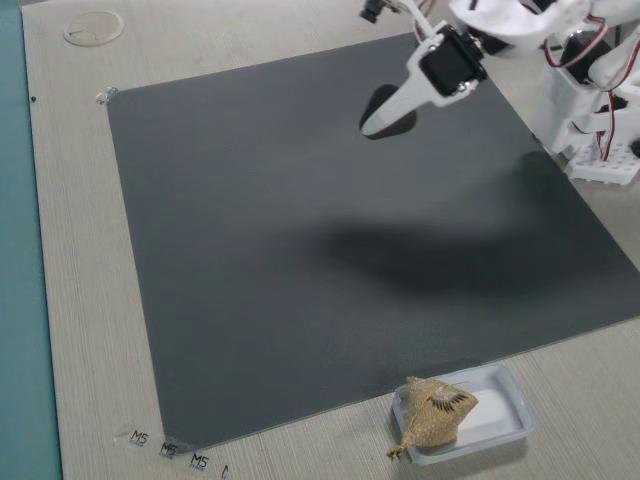objects: (347, 24, 491, 141)
